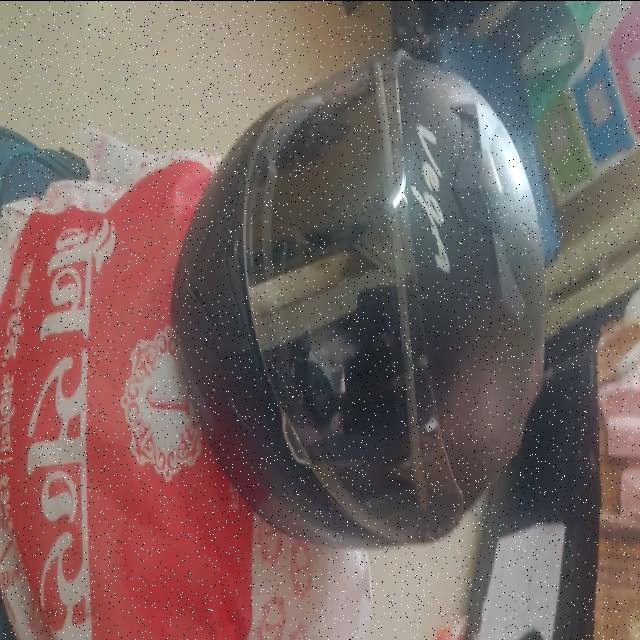Helmet: (168, 46, 551, 550)
